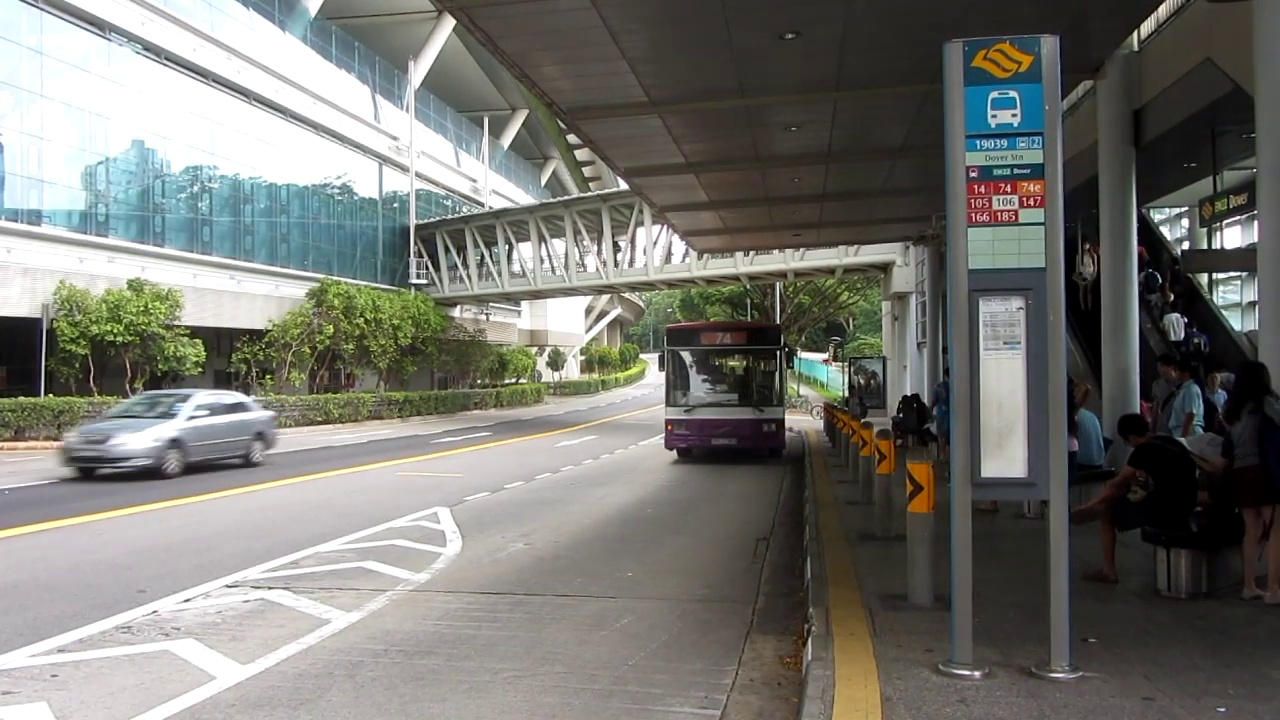bus panel: (699, 331, 749, 346)
